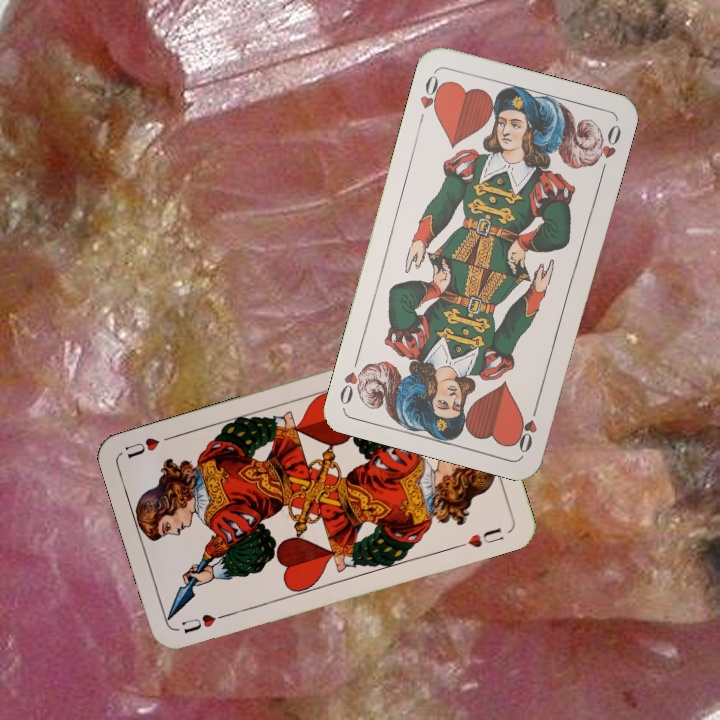HO: (414, 69, 447, 127), (514, 398, 542, 456)
HU: (178, 608, 233, 636)
